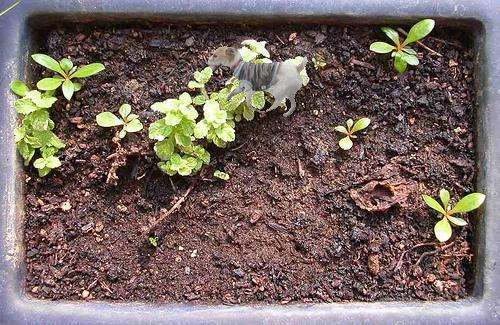tampered: (209, 47, 307, 117)
